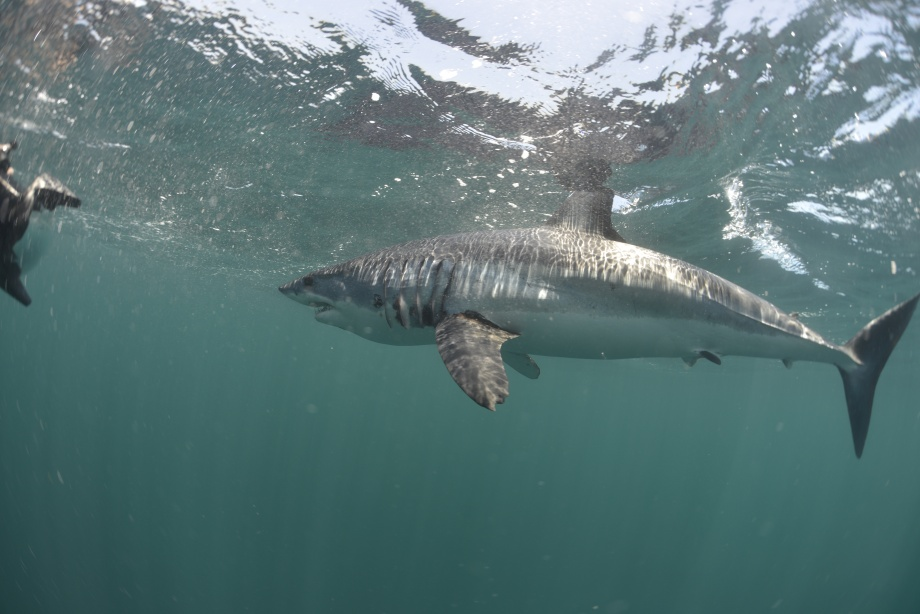Mako: (252, 178, 920, 472)
